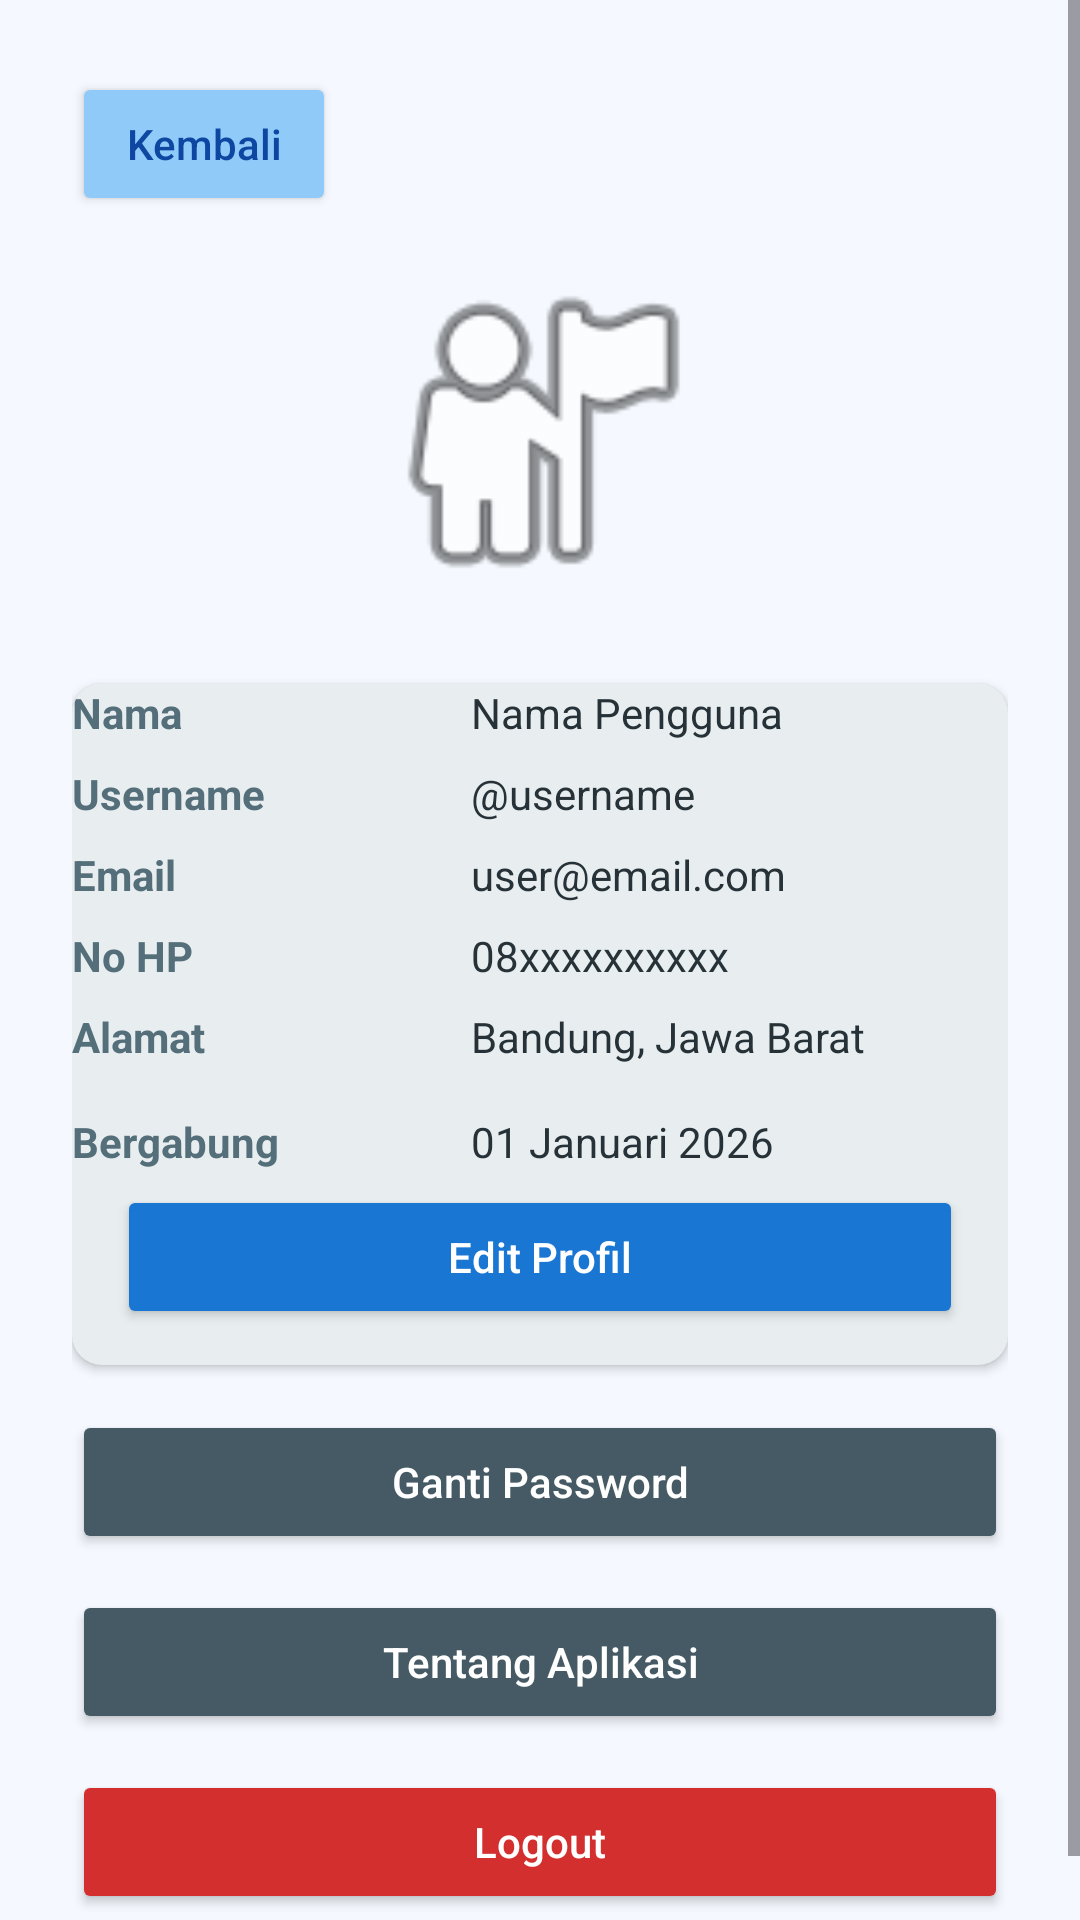

Where to tap for icons on this 1080*1920 app screen, as [x,y]:
myplaces: [543,432]
